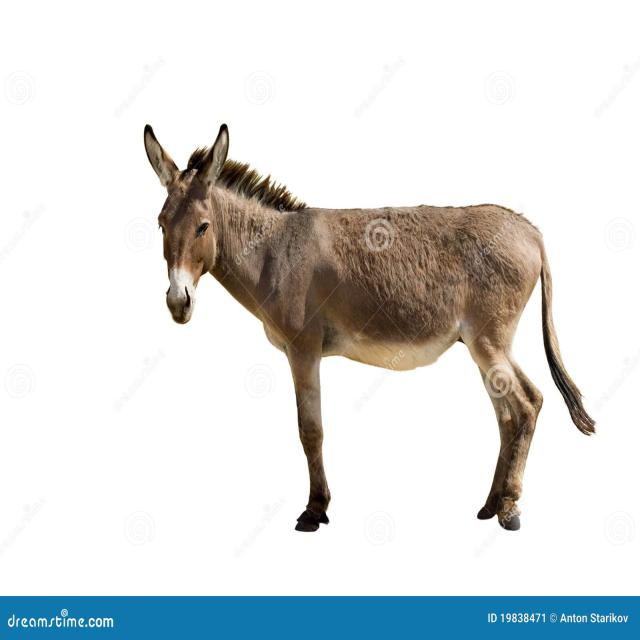Donkey: (141, 120, 585, 533)
